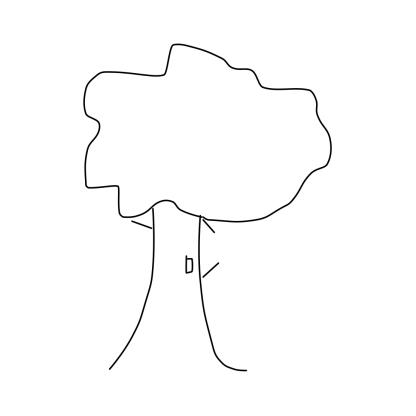crown_cloud: (83, 43, 332, 222)
trunk_straight: (128, 239, 210, 334)
